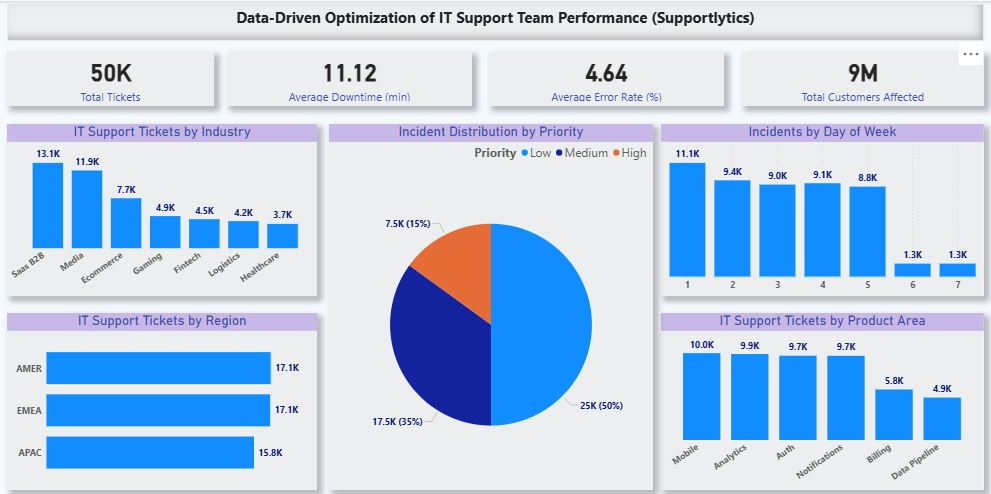

The dashboard page shown, as its layout file describes it:
{"tool":"powerbi","page":{"name":"Operational Overview","canvas":[1800,900],"ordinal":0},"visuals":[{"type":"card","fields":{"Values":["Worksheet.Total Tickets"]},"box":[14.4,91.8,372.6,97.2],"z":0},{"type":"card","fields":{"Values":["Worksheet.Average Downtime"]},"box":[410.4,91.8,441,97.2],"z":1000},{"type":"card","fields":{"Values":["Worksheet.Average Error Rate (%)"]},"box":[882,91.8,423,97.2],"z":2000},{"type":"card","fields":{"Values":["Worksheet.Total Customers Affected"]},"box":[1337.4,91.8,435.6,97.2],"z":3000},{"type":"clusteredBarChart","title":"IT Support Tickets by Region","fields":{"Category":["Worksheet.region"],"Y":["CountNonNull(Worksheet.ticket_id)"]},"box":[14.4,561.6,558,318.6],"z":4000},{"type":"clusteredColumnChart","title":"IT Support Tickets by Industry","fields":{"Category":["Worksheet.industry"],"Y":["CountNonNull(Worksheet.ticket_id)"]},"box":[14.4,221.4,558,309.6],"z":5000},{"type":"clusteredColumnChart","title":"IT Support Tickets by Product  Area","fields":{"Category":["Worksheet.product_area"],"Y":["CountNonNull(Worksheet.ticket_id)"]},"box":[1191.6,561.6,581.4,318.6],"z":6000},{"type":"pieChart","title":"Incident Distribution by Priority","fields":{"Category":["Worksheet.priority"],"Y":["CountNonNull(Worksheet.ticket_id)"]},"box":[594,221.4,583.2,658.8],"z":7000},{"type":"clusteredColumnChart","title":"Incidents by Day of Week","fields":{"Y":["CountNonNull(Worksheet.ticket_id)"],"Category":["Worksheet.Day_Order"]},"box":[1191.6,221.4,581.4,309.6],"z":8000},{"type":"textbox","box":[14.4,5.4,1758.6,66.6],"z":9000}]}

Visuals, with their boxes in screenshot pixels (x1, y1, x2, y2), scaled from the page's 1800x900 canvas onto the 991x494 screenshot:
card - Worksheet.Total Tickets: 8:50:213:104
card - Worksheet.Average Downtime: 226:50:469:104
card - Worksheet.Average Error Rate (%): 486:50:718:104
card - Worksheet.Total Customers Affected: 736:50:976:104
"IT Support Tickets by Region" clusteredBarChart: 8:308:315:483
"IT Support Tickets by Industry" clusteredColumnChart: 8:122:315:291
"IT Support Tickets by Product  Area" clusteredColumnChart: 656:308:976:483
"Incident Distribution by Priority" pieChart: 327:122:648:483
"Incidents by Day of Week" clusteredColumnChart: 656:122:976:291
textbox: 8:3:976:40
